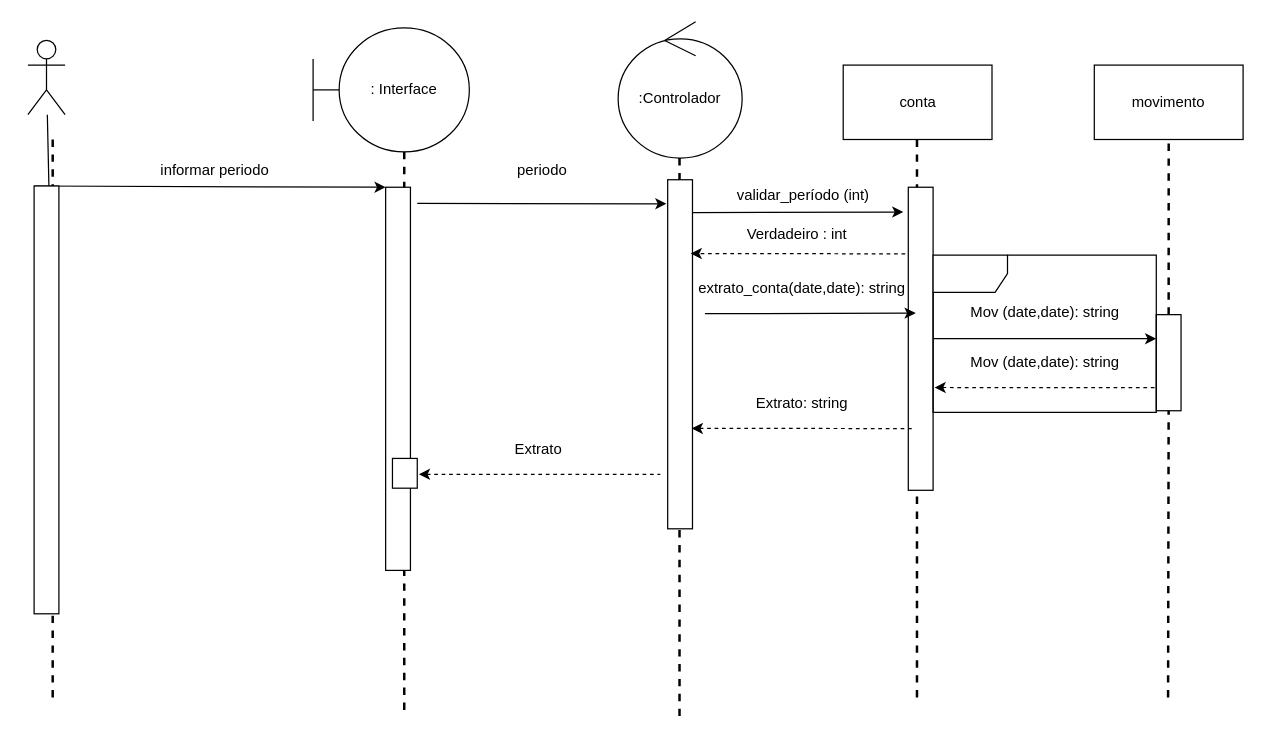
Image size: 1265x740. Some labels were removed from this diagram. The box of each missing label's shape, as (x1, y1, x2, y2) in pixels:
loop: (932, 254, 1156, 412)
Usuário: (27, 39, 65, 115)
